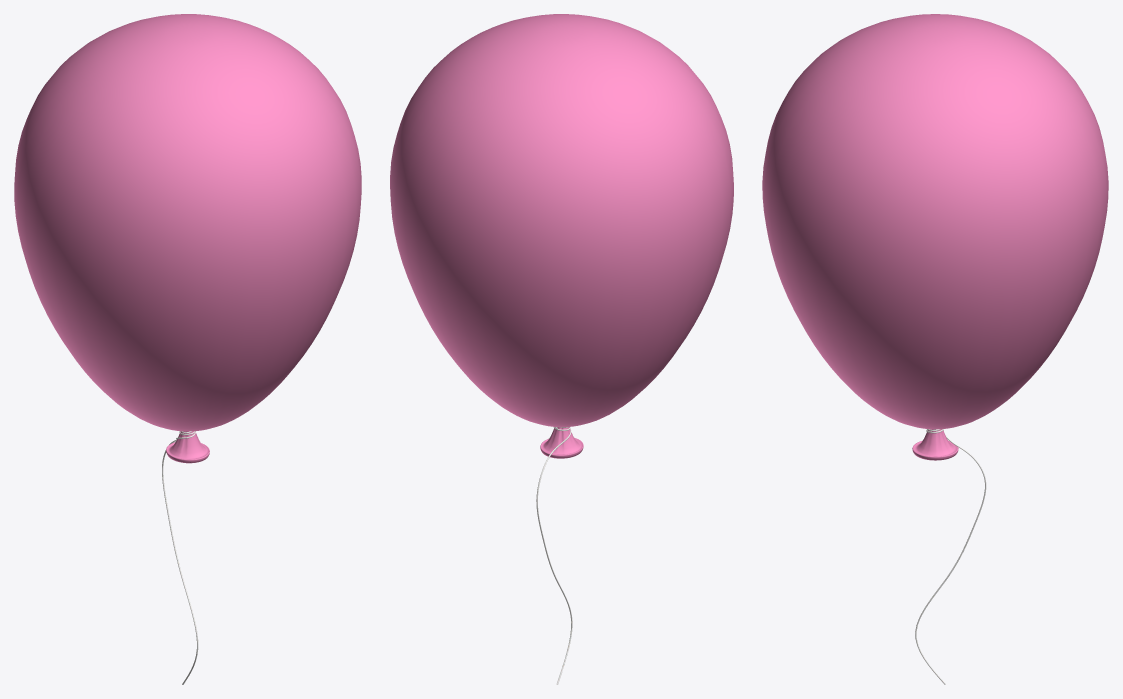
Rendered from globo.obj.
3 views of the same model, side by side, from view 1: azimuth 30°, elevation 25°; view 2: azimuth 150°, elevation 25°; view 3: azimuth 270°, elevation 25° (orthographic).
Parts seen in each view (by area): view 1: BallonBalloon, String1Ballon; view 2: BallonBalloon, String1Ballon; view 3: BallonBalloon, String1Ballon.
Part boxes in pixels (box(x1,y1,x2,y2)): BallonBalloon: box(14, 14, 361, 463); String1Ballon: box(162, 431, 198, 684); BallonBalloon: box(390, 14, 733, 458); String1Ballon: box(536, 427, 572, 684); BallonBalloon: box(762, 14, 1108, 460); String1Ballon: box(915, 429, 986, 684).
Size of the model in its own units: 0.8871 by 1.85 by 0.8871.
Materials: 2 (2 with a texture image).
